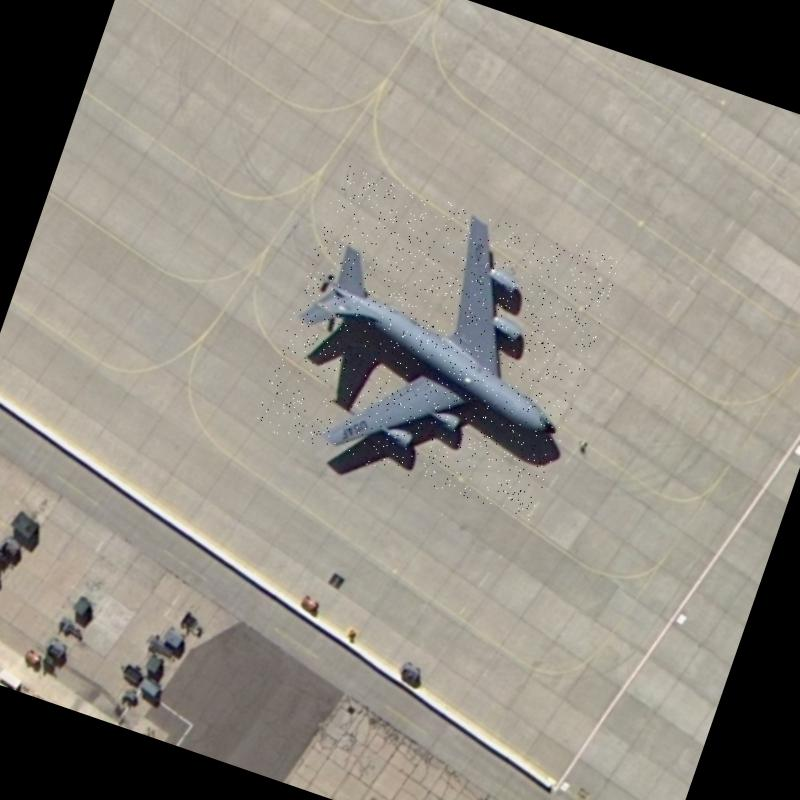A14: (254, 164, 622, 522)
